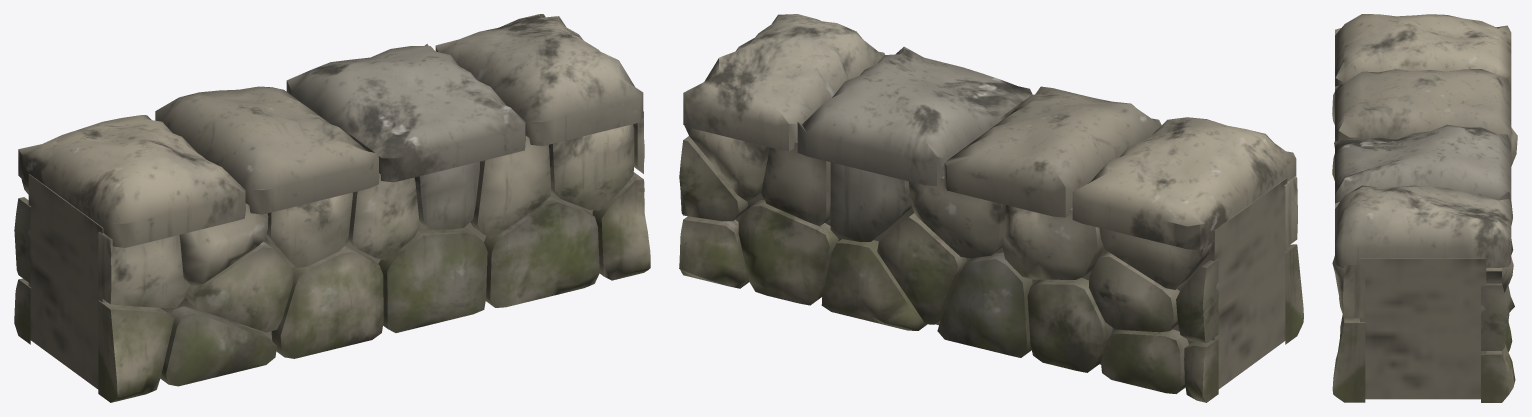
File: Ishigaki_Low.gltf
The picture shows the model from 3 angles, left to right: view 1: azimuth 30°, elevation 25°; view 2: azimuth 150°, elevation 25°; view 3: azimuth 270°, elevation 25°; orthographic projection. The views are drawn at different scales.
Parts seen in each view (by area): view 1: Ishigaki_Low; view 2: Ishigaki_Low; view 3: Ishigaki_Low.
Part boxes in pixels (box(x1,y1,x2,y2)): Ishigaki_Low: box(14, 14, 650, 402); Ishigaki_Low: box(679, 14, 1303, 402); Ishigaki_Low: box(1332, 14, 1517, 402).
Size of the model in its own units: 2 by 0.7957 by 0.7061.
Materials: 1 (1 with a texture image).
